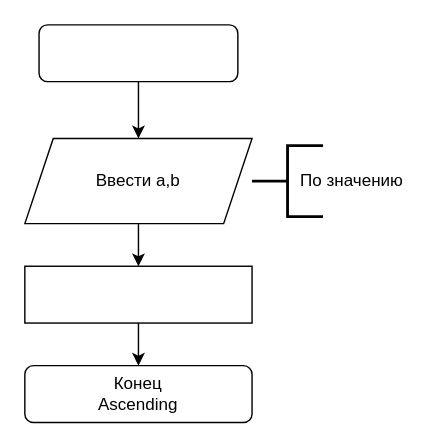
This 447x447 diagram has some shape labels left out. Each missing label, with the box of its shape:
Ascending = a > b: (23, 265, 252, 323)
Начало Ascending: (38, 23, 238, 82)
